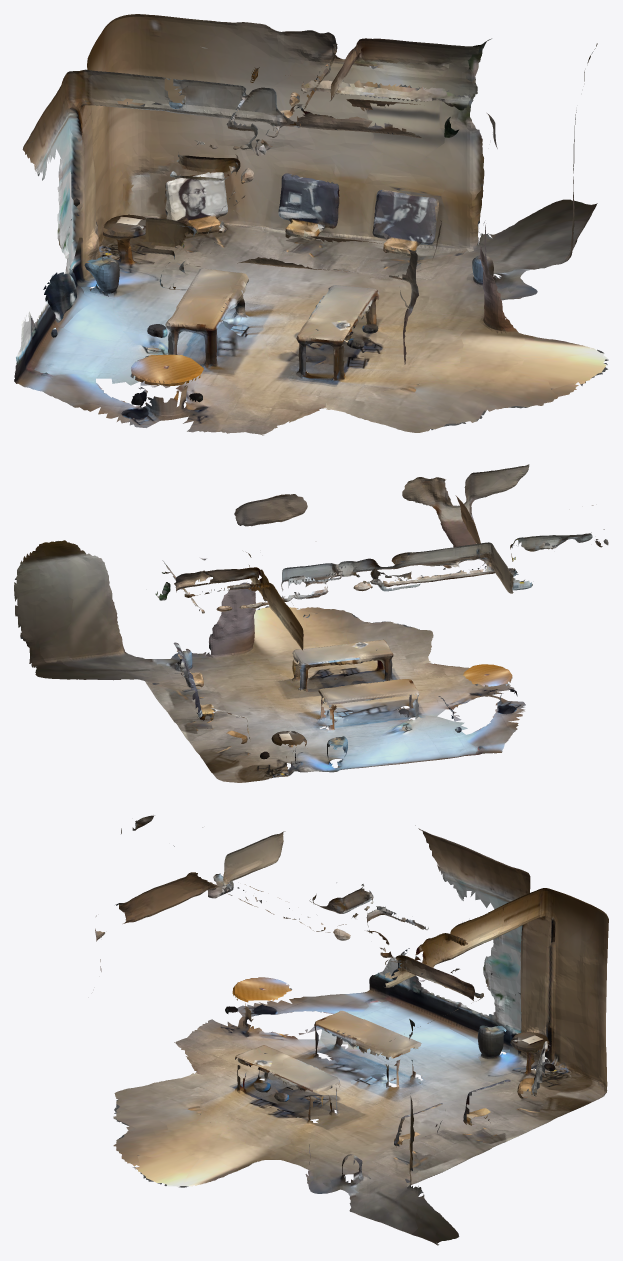
Rendered from scc2.glb.
3 views of the same model, one above another, from view 1: azimuth 30°, elevation 25°; view 2: azimuth 150°, elevation 25°; view 3: azimuth 270°, elevation 25° (orthographic). The views are drawn at different scales.
Parts seen in each view (by area): view 1: mesh; view 2: mesh; view 3: mesh.
Boxes of the visible parts, box(x1,y1,x2,y2) form: mesh: box(14, 14, 608, 435); mesh: box(14, 464, 608, 782); mesh: box(95, 815, 608, 1245).
Size of the model in its own units: 12.16 by 3.88 by 11.45.
Materials: 1 (1 with a texture image).
